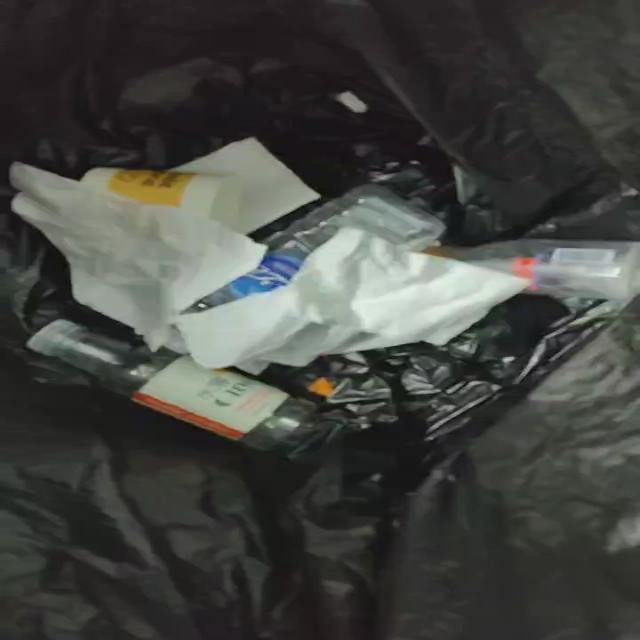bottle: (28, 320, 314, 447), (198, 185, 444, 311), (425, 239, 639, 302)
dixie_cup: (82, 166, 235, 226)
paper: (11, 161, 272, 352), (180, 226, 529, 366), (180, 138, 318, 234)
